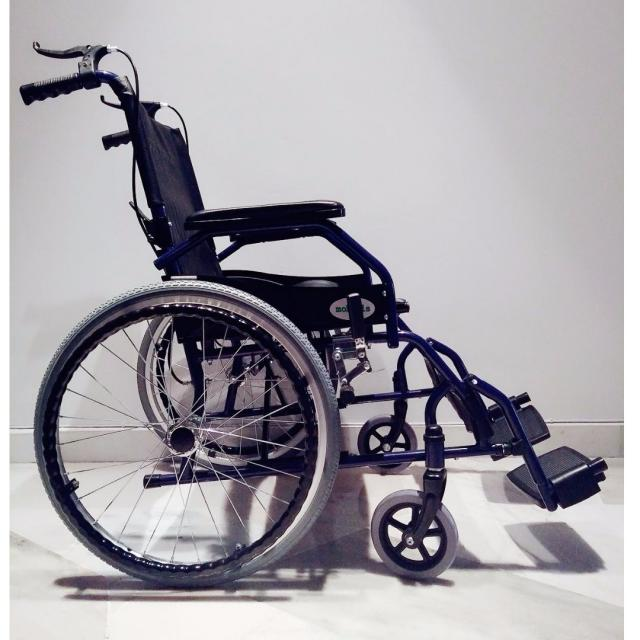wheelchair: (8, 39, 640, 602)
